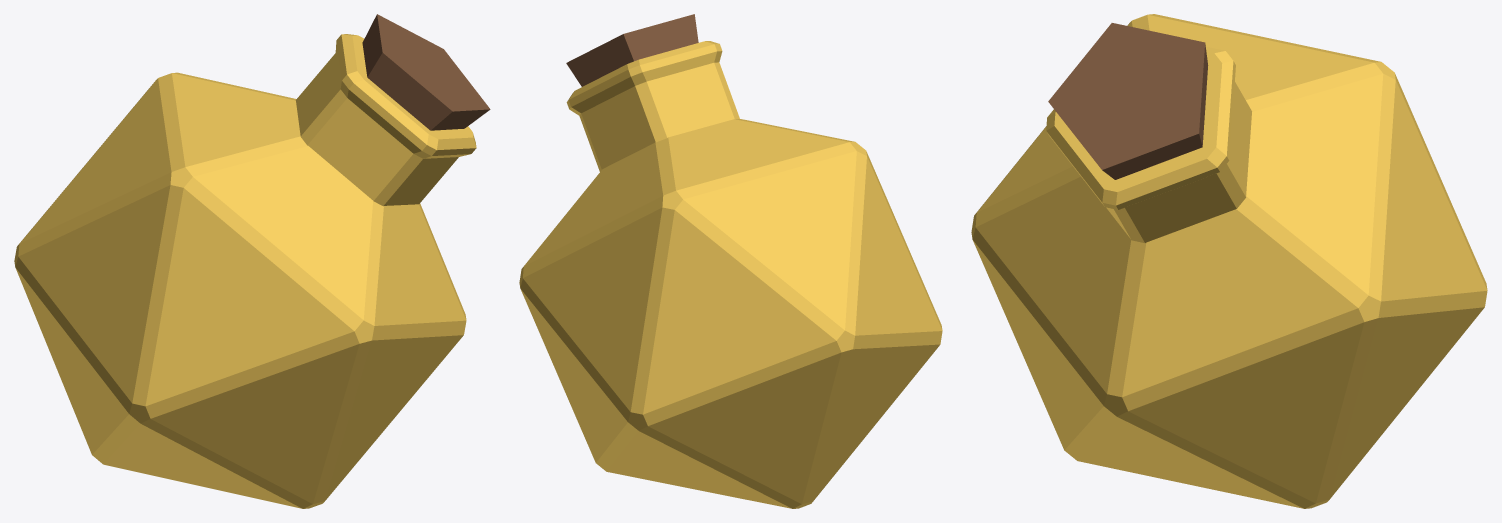
File: Potion_03_Yellow.fbx
3 views of the same model, side by side, from view 1: azimuth 30°, elevation 25°; view 2: azimuth 150°, elevation 25°; view 3: azimuth 270°, elevation 25° (orthographic). The views are drawn at different scales.
Visible parts, largest first — view 1: Icosphere.004, Cylinder.028, Cylinder.029; view 2: Icosphere.004, Cylinder.028, Cylinder.029; view 3: Icosphere.004, Cylinder.029, Cylinder.028.
Boxes of the visible parts, bbox=[...] form: Icosphere.004: bbox=[14, 72, 466, 508]; Cylinder.028: bbox=[295, 34, 476, 206]; Cylinder.029: bbox=[362, 14, 490, 130]; Icosphere.004: bbox=[519, 119, 942, 508]; Cylinder.028: bbox=[566, 41, 739, 171]; Cylinder.029: bbox=[566, 14, 698, 86]; Icosphere.004: bbox=[971, 14, 1487, 508]; Cylinder.029: bbox=[1048, 23, 1208, 179]; Cylinder.028: bbox=[1046, 46, 1251, 242].
Size of the model in its own units: 22.22 by 24.31 by 23.44.
